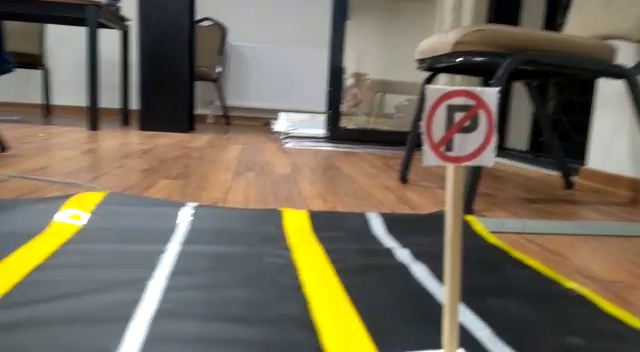park_yapilmaz: (424, 85, 497, 163)
